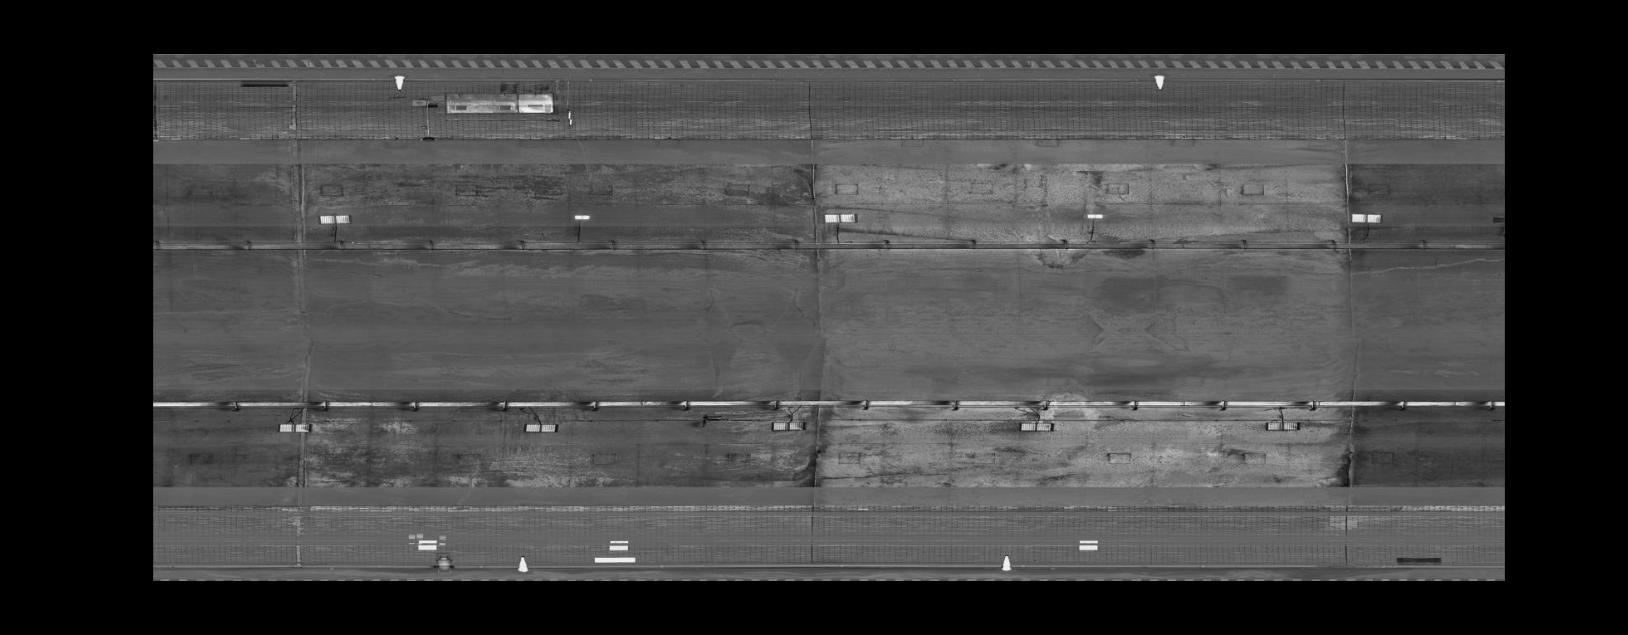light: (1261, 418, 1304, 434), (768, 418, 810, 434), (520, 420, 562, 436), (1017, 420, 1059, 435), (315, 212, 355, 226), (1349, 209, 1386, 224), (275, 420, 315, 434), (821, 210, 858, 224), (1081, 212, 1107, 220), (568, 213, 594, 221)
